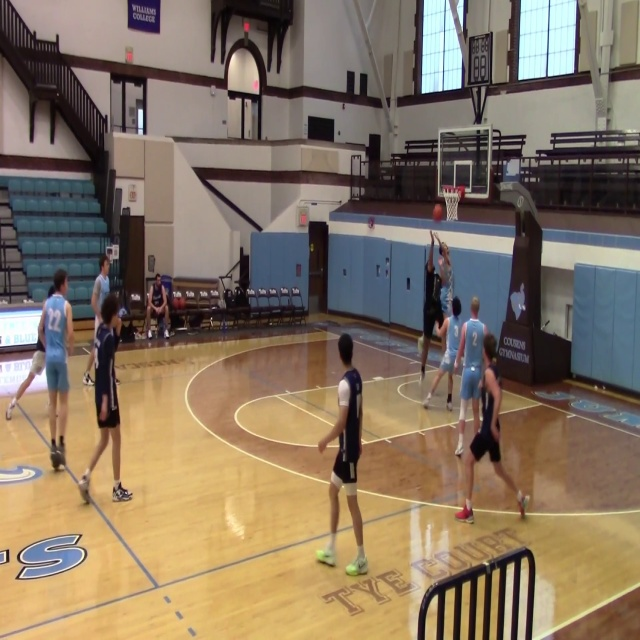Basketball: (432, 204, 444, 221), (172, 297, 185, 309), (418, 336, 425, 354)
